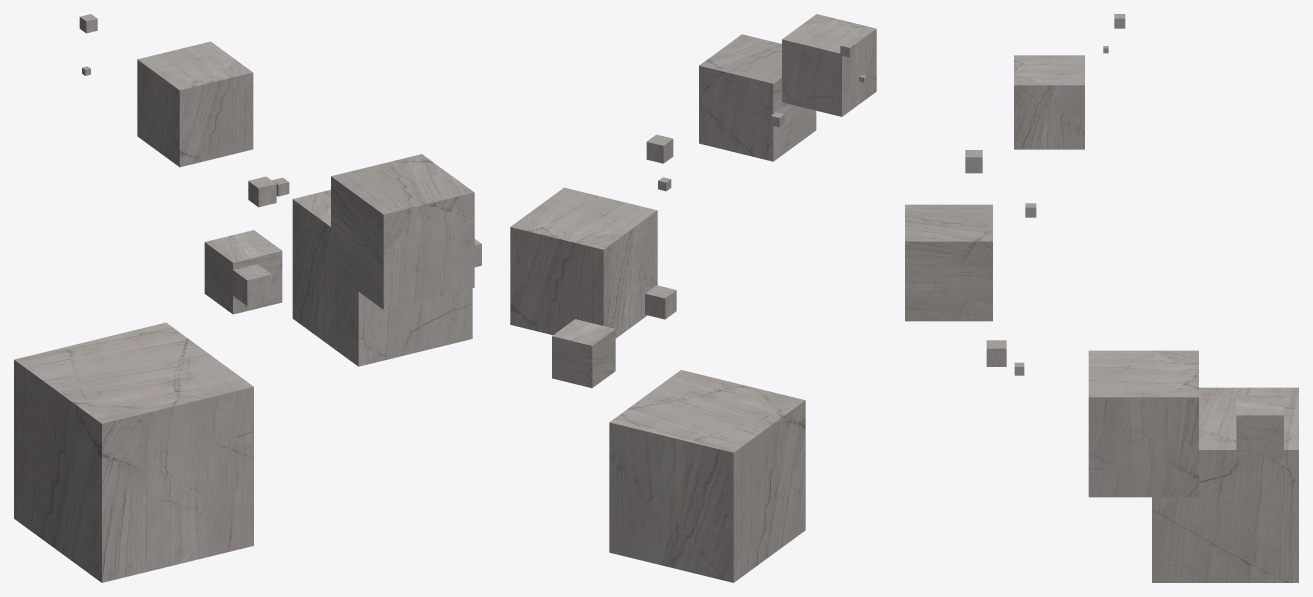
File: NavPointModel.fbx
The picture shows the model from 3 angles, left to right: view 1: azimuth 30°, elevation 25°; view 2: azimuth 150°, elevation 25°; view 3: azimuth 270°, elevation 25°; orthographic projection. The views are drawn at different scales.
Visible parts, largest first — view 1: Cube.003; view 2: Cube.003; view 3: Cube.003.
Boxes of the visible parts, x1,y1,x2,y2 form: Cube.003: [14, 14, 481, 582]; Cube.003: [510, 14, 876, 582]; Cube.003: [905, 14, 1298, 582].
Size of the model in its own units: 64.54 by 95.63 by 69.46.
